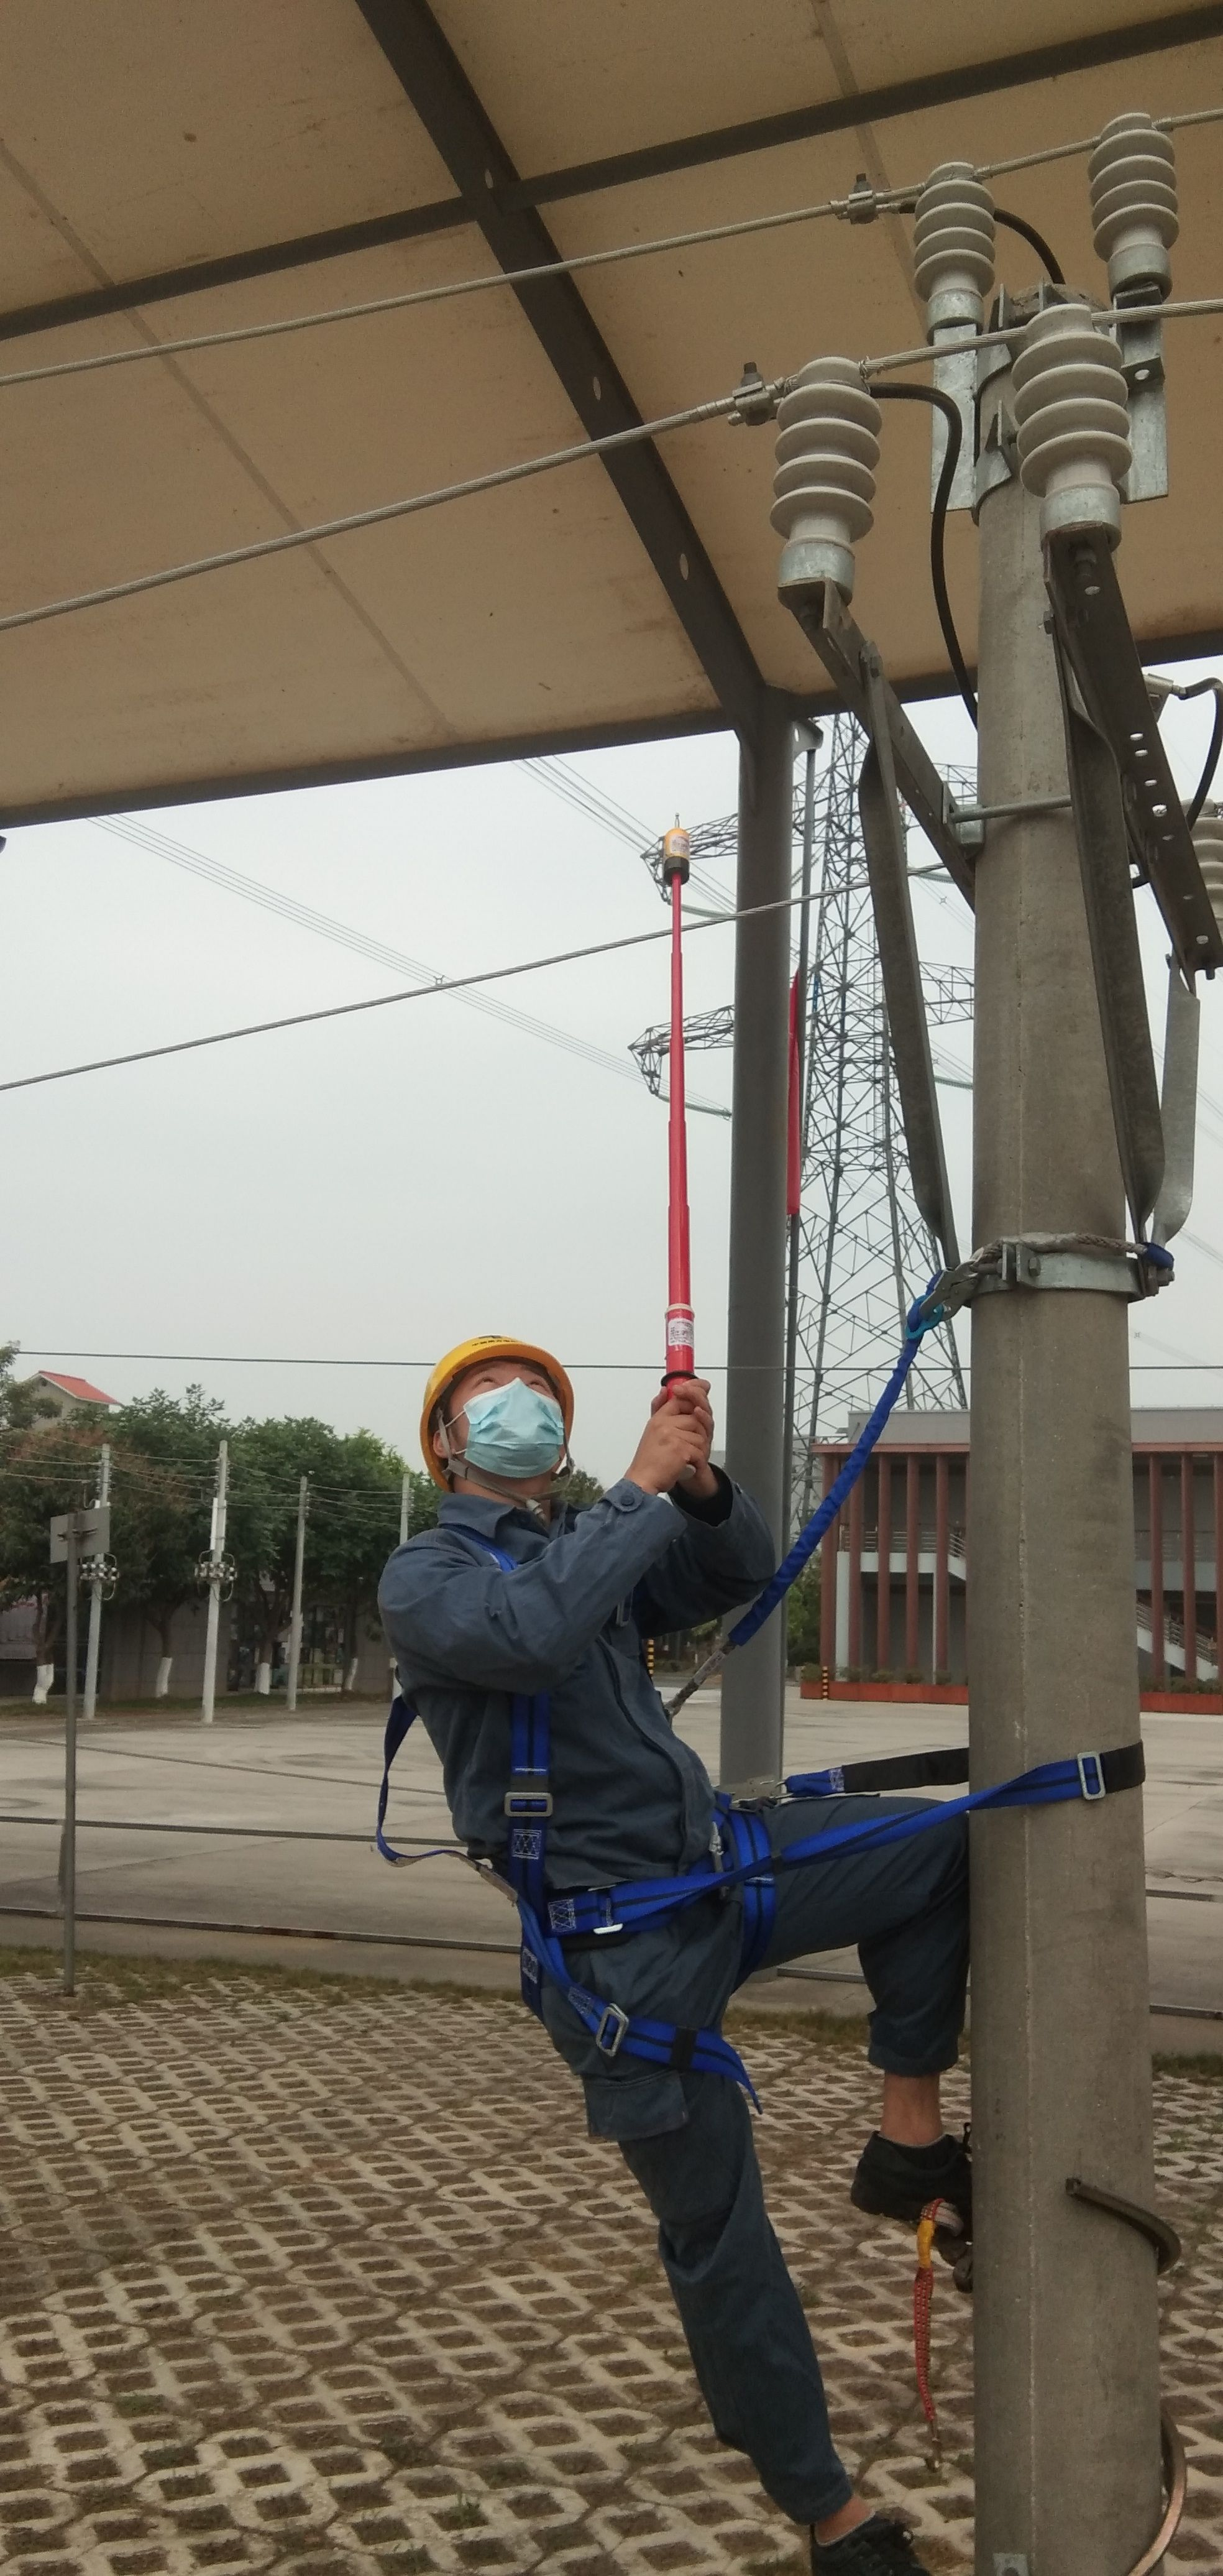downsuit: (529, 1799, 969, 2525)
upsuit: (392, 1495, 734, 1876)
